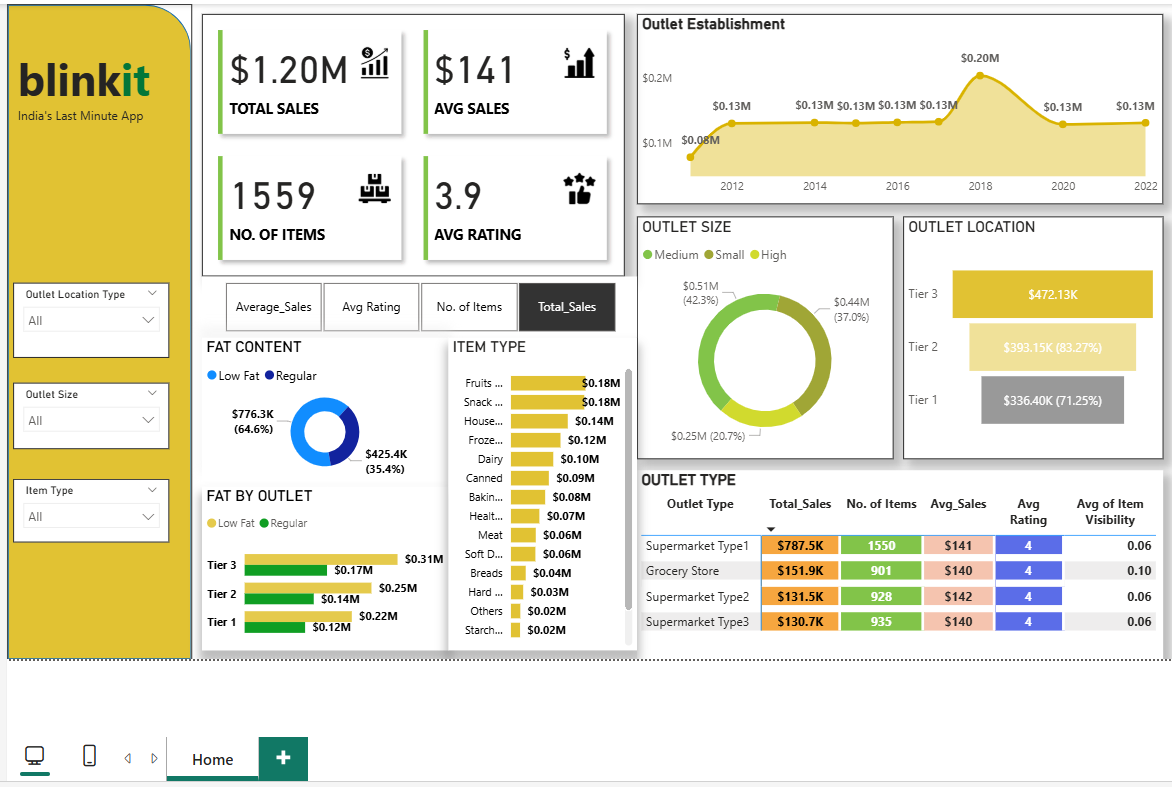

What the dashboard file says about the page in this screenshot:
{"tool":"powerbi","page":{"name":"Home","canvas":[1280,720],"ordinal":0},"visuals":[{"type":"lineChart","title":"Outlet Establishment","fields":{"Category":["BlinkIT Grocery Data.Outlet Establishment Year"],"Y":["All Measures.Total_Sales"]},"box":[691.6,11,577.7,208.6],"z":0},{"type":"donutChart","title":"OUTLET SIZE","fields":{"Category":["BlinkIT Grocery Data.Outlet Size"],"Y":["All Measures.Total_Sales"]},"box":[691.6,233.3,281.3,266.2],"z":1000},{"type":"funnel","title":"OUTLET LOCATION","fields":{"Category":["BlinkIT Grocery Data.Outlet Location Type"],"Y":["All Measures.Total_Sales"]},"box":[983.9,233.3,285.4,266.2],"z":2000},{"type":"pivotTable","title":"OUTLET TYPE","fields":{"Rows":["BlinkIT Grocery Data.Outlet Type"],"Values":["All Measures.Total_Sales","All Measures.No. of Items","All Measures.Average_Sales","All Measures.Avg Rating","Avg(BlinkIT Grocery Data.Item Visibility)"]},"box":[691.6,511.8,577.7,208.6],"z":3000},{"type":"cardVisual","fields":{"Data":["All Measures.Total_Sales","All Measures.Average_Sales","All Measures.No. of Items","All Measures.Avg Rating"]},"box":[214.1,11,463.8,288.2],"z":4000},{"type":"shape","box":[0,0,203.1,720.4],"z":5000},{"type":"slicer","fields":{"Values":["BlinkIT Grocery Data.Outlet Location Type"]},"box":[6.9,306,171.5,82.3],"z":6000},{"type":"slicer","fields":{"Values":["BlinkIT Grocery Data.Outlet Size"]},"box":[6.9,415.8,171.5,72.7],"z":7000},{"type":"slicer","fields":{"Values":["BlinkIT Grocery Data.Item Type"]},"box":[6.9,521.4,171.5,70],"z":8000},{"type":"textbox","box":[6.9,43.9,196.2,96.1],"z":9000},{"type":"slicer","fields":{"Values":["Metric.Metric"]},"box":[214.1,299.1,477.5,67.2],"z":10000},{"type":"donutChart","title":"FAT CONTENT","fields":{"Y":["All Measures.Total_Sales"],"Category":["BlinkIT Grocery Data.Item Fat Content"]},"box":[214.1,366.4,270.3,156.4],"z":11000},{"type":"clusteredBarChart","title":"FAT BY OUTLET","fields":{"Y":["All Measures.Total_Sales"],"Category":["BlinkIT Grocery Data.Outlet Location Type"],"Series":["BlinkIT Grocery Data.Item Fat Content"]},"box":[214.1,529.7,270.3,179.8],"z":12000},{"type":"clusteredBarChart","title":"ITEM TYPE","fields":{"Y":["All Measures.Total_Sales"],"Category":["BlinkIT Grocery Data.Item Type"]},"box":[484.4,366.4,207.2,343.1],"z":13000}]}

Visuals, with their boxes in screenshot pixels (x1, y1, x2, y2):
"Outlet Establishment" lineChart: (left=628, top=13, right=1149, bottom=201)
"OUTLET SIZE" donutChart: (left=628, top=214, right=882, bottom=454)
"OUTLET LOCATION" funnel: (left=891, top=214, right=1149, bottom=454)
"OUTLET TYPE" pivotTable: (left=628, top=465, right=1149, bottom=654)
cardVisual - All Measures.Total_Sales x All Measures.Average_Sales: (left=196, top=13, right=615, bottom=273)
shape: (left=3, top=3, right=186, bottom=654)
slicer - BlinkIT Grocery Data.Outlet Location Type: (left=9, top=279, right=164, bottom=354)
slicer - BlinkIT Grocery Data.Outlet Size: (left=9, top=379, right=164, bottom=444)
slicer - BlinkIT Grocery Data.Item Type: (left=9, top=474, right=164, bottom=537)
textbox: (left=9, top=43, right=186, bottom=129)
slicer - Metric.Metric: (left=196, top=273, right=628, bottom=334)
"FAT CONTENT" donutChart: (left=196, top=334, right=440, bottom=475)
"FAT BY OUTLET" clusteredBarChart: (left=196, top=481, right=440, bottom=644)
"ITEM TYPE" clusteredBarChart: (left=440, top=334, right=628, bottom=644)
